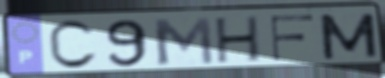9: (104, 18, 150, 69)
C: (46, 18, 101, 72)
F: (268, 13, 317, 63)
H: (214, 13, 263, 66)
M: (149, 15, 217, 67), (316, 12, 382, 62)
